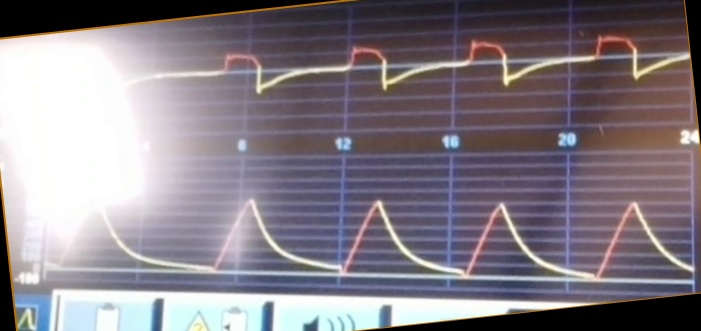Normal Flow: (131, 26, 687, 120)
Normal Volume: (47, 191, 694, 285)
